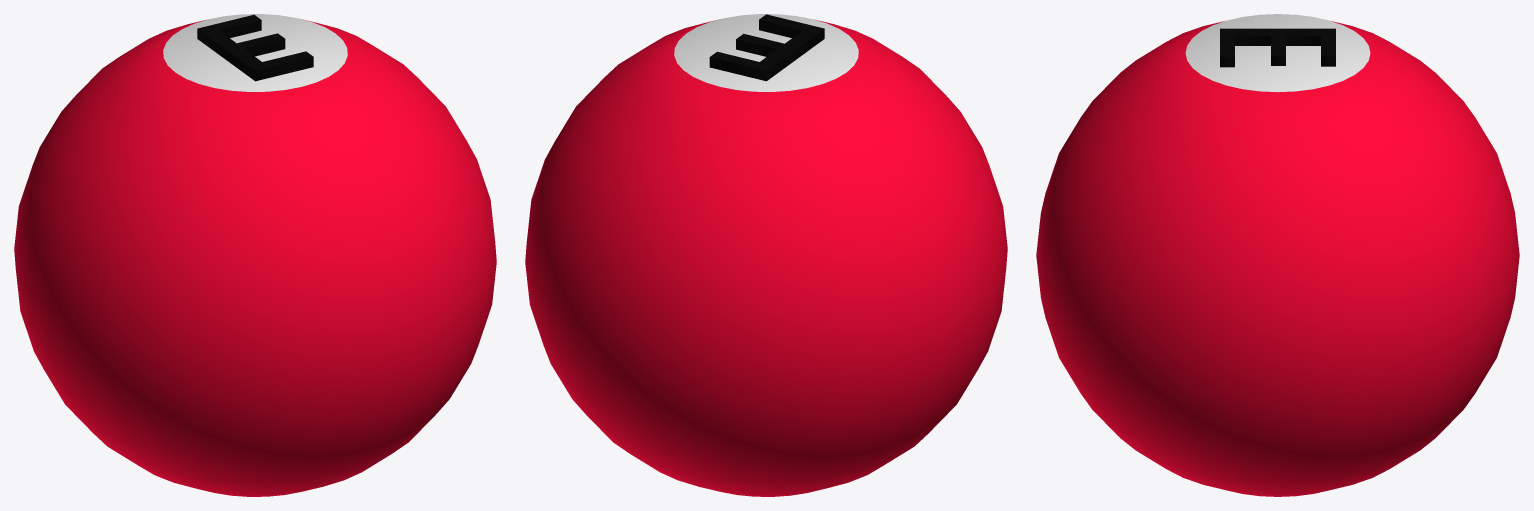
The model's file is end_portal.glb.
3 renders of one model, left to right at view 1: azimuth 30°, elevation 25°; view 2: azimuth 150°, elevation 25°; view 3: azimuth 270°, elevation 25°, orthographic.
Parts seen in each view (by area): view 1: Sphere, Text; view 2: Sphere, Text; view 3: Sphere, Text.
Part boxes in pixels (x1,y1,x2,y2): Sphere: (14,14,496,496); Text: (197,14,313,81); Sphere: (525,14,1007,496); Text: (709,14,824,81); Sphere: (1036,14,1519,496); Text: (1220,28,1335,67).
Bounding box in the file's own units: 2 × 1.97 × 2.
